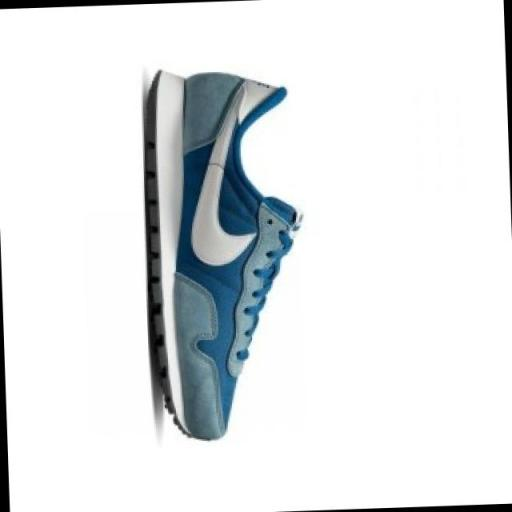Nike: (182, 98, 252, 271)
